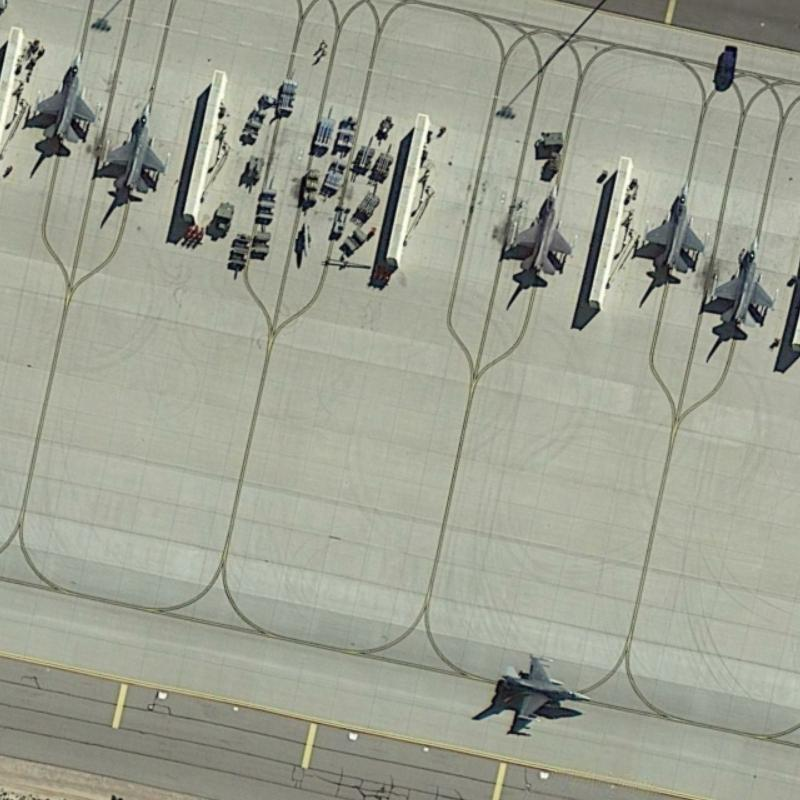A5: (480, 643, 596, 738), (696, 231, 778, 349), (495, 174, 577, 290), (19, 40, 99, 152), (96, 96, 170, 202), (638, 170, 705, 282)
